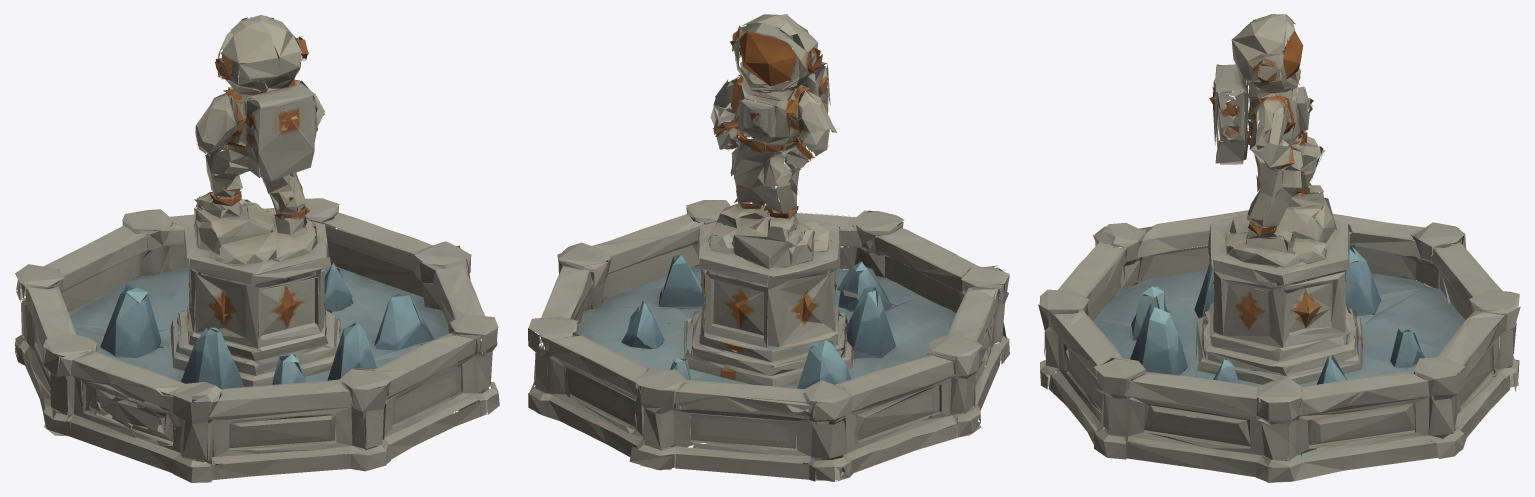
Rendered from statue-fontaine.glb.
The picture shows the model from 3 angles, left to right: view 1: azimuth 30°, elevation 25°; view 2: azimuth 150°, elevation 25°; view 3: azimuth 270°, elevation 25°; orthographic projection.
Visible parts, largest first — view 1: statue-fontaine; view 2: statue-fontaine; view 3: statue-fontaine.
Boxes of the visible parts, x1,y1,x2,y2 form: statue-fontaine: [14, 15, 499, 482]; statue-fontaine: [528, 14, 1009, 481]; statue-fontaine: [1038, 14, 1520, 482].
Bounding box in the file's own units: 4 × 3.34 × 4.
Materials: 1 (1 with a texture image).
